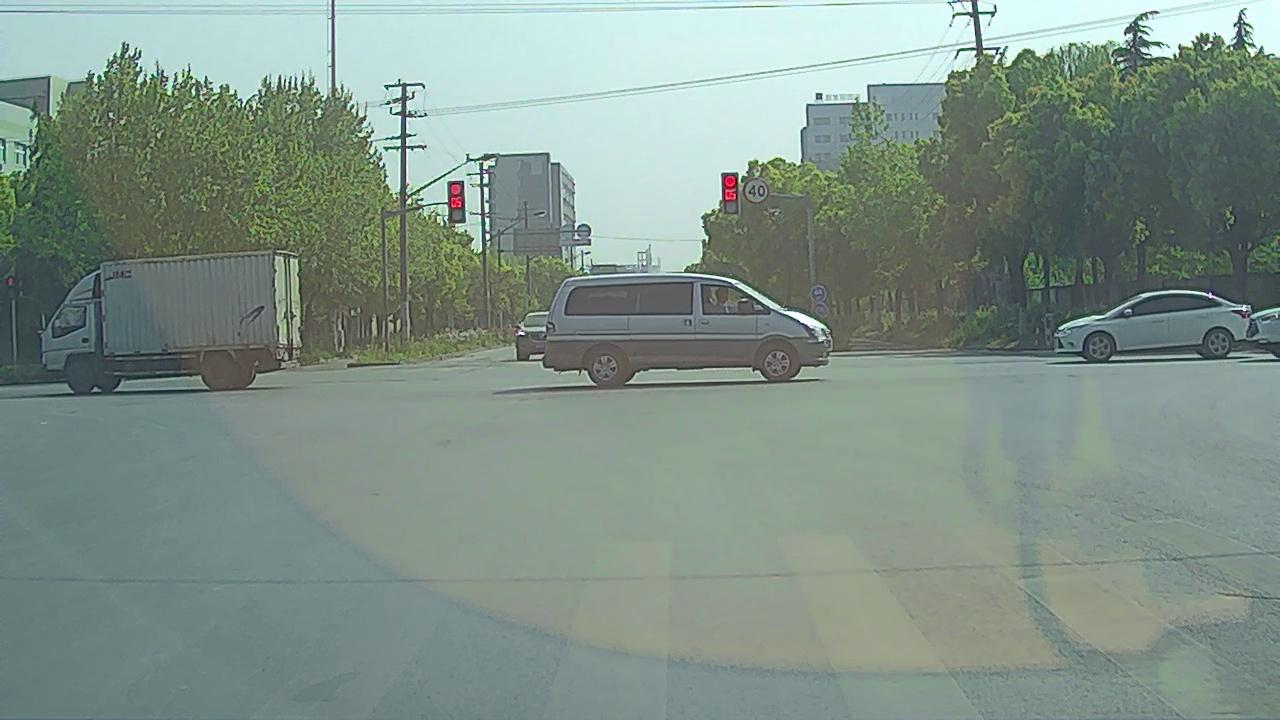traffic_light: (722, 174, 740, 214), (448, 181, 465, 221)
